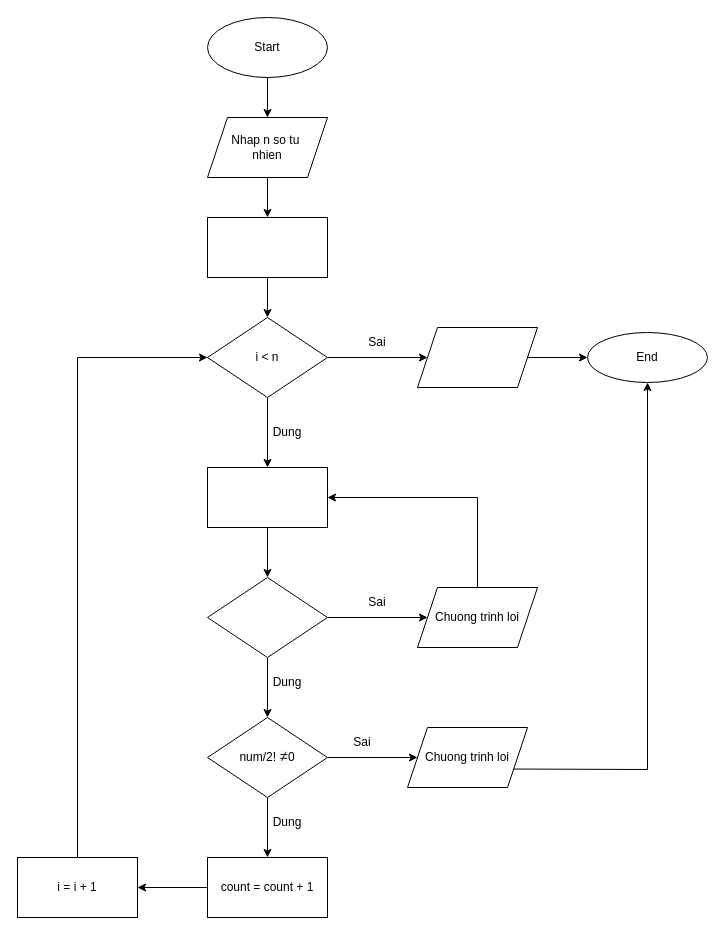
The diagram is 725 pixels wide and 935 high, and some of its shapes have lost their labels. Each missing label, with the centre of its shape:
"in ra count" belongs at point 477,357.
"Khai bao count = 0, i = 0" belongs at point 267,247.
"Nhap so tu nhien num" belongs at point 267,497.
"num > 0" belongs at point 267,617.
